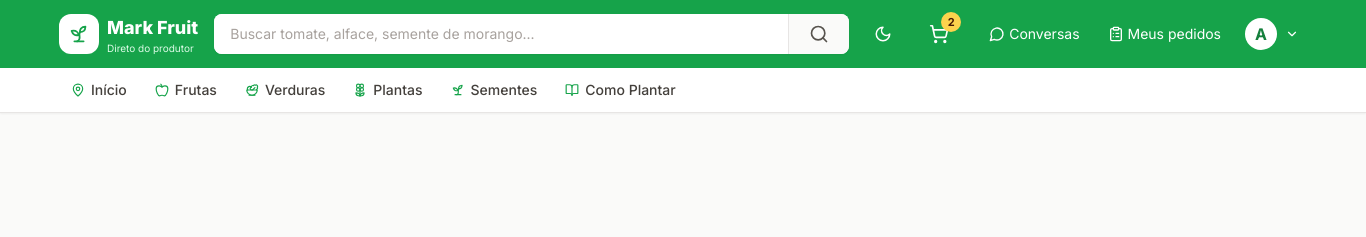
Navbar › abre o menu da conta com toque ou clique
This screenshot has width=1366, height=237.
Click the button named "Abrir menu da conta": (1272, 34) [1237,12,1307,56]
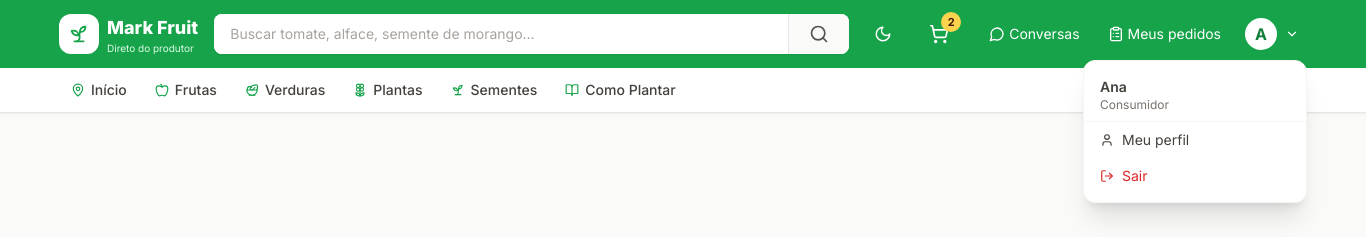
Expected: the link "Meu perfil" is shown, [1100,131,1189,148]
